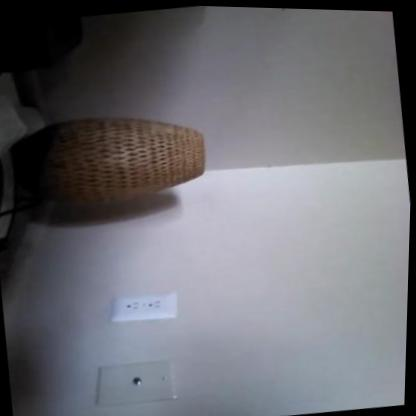OUTLET: (108, 288, 180, 326)
